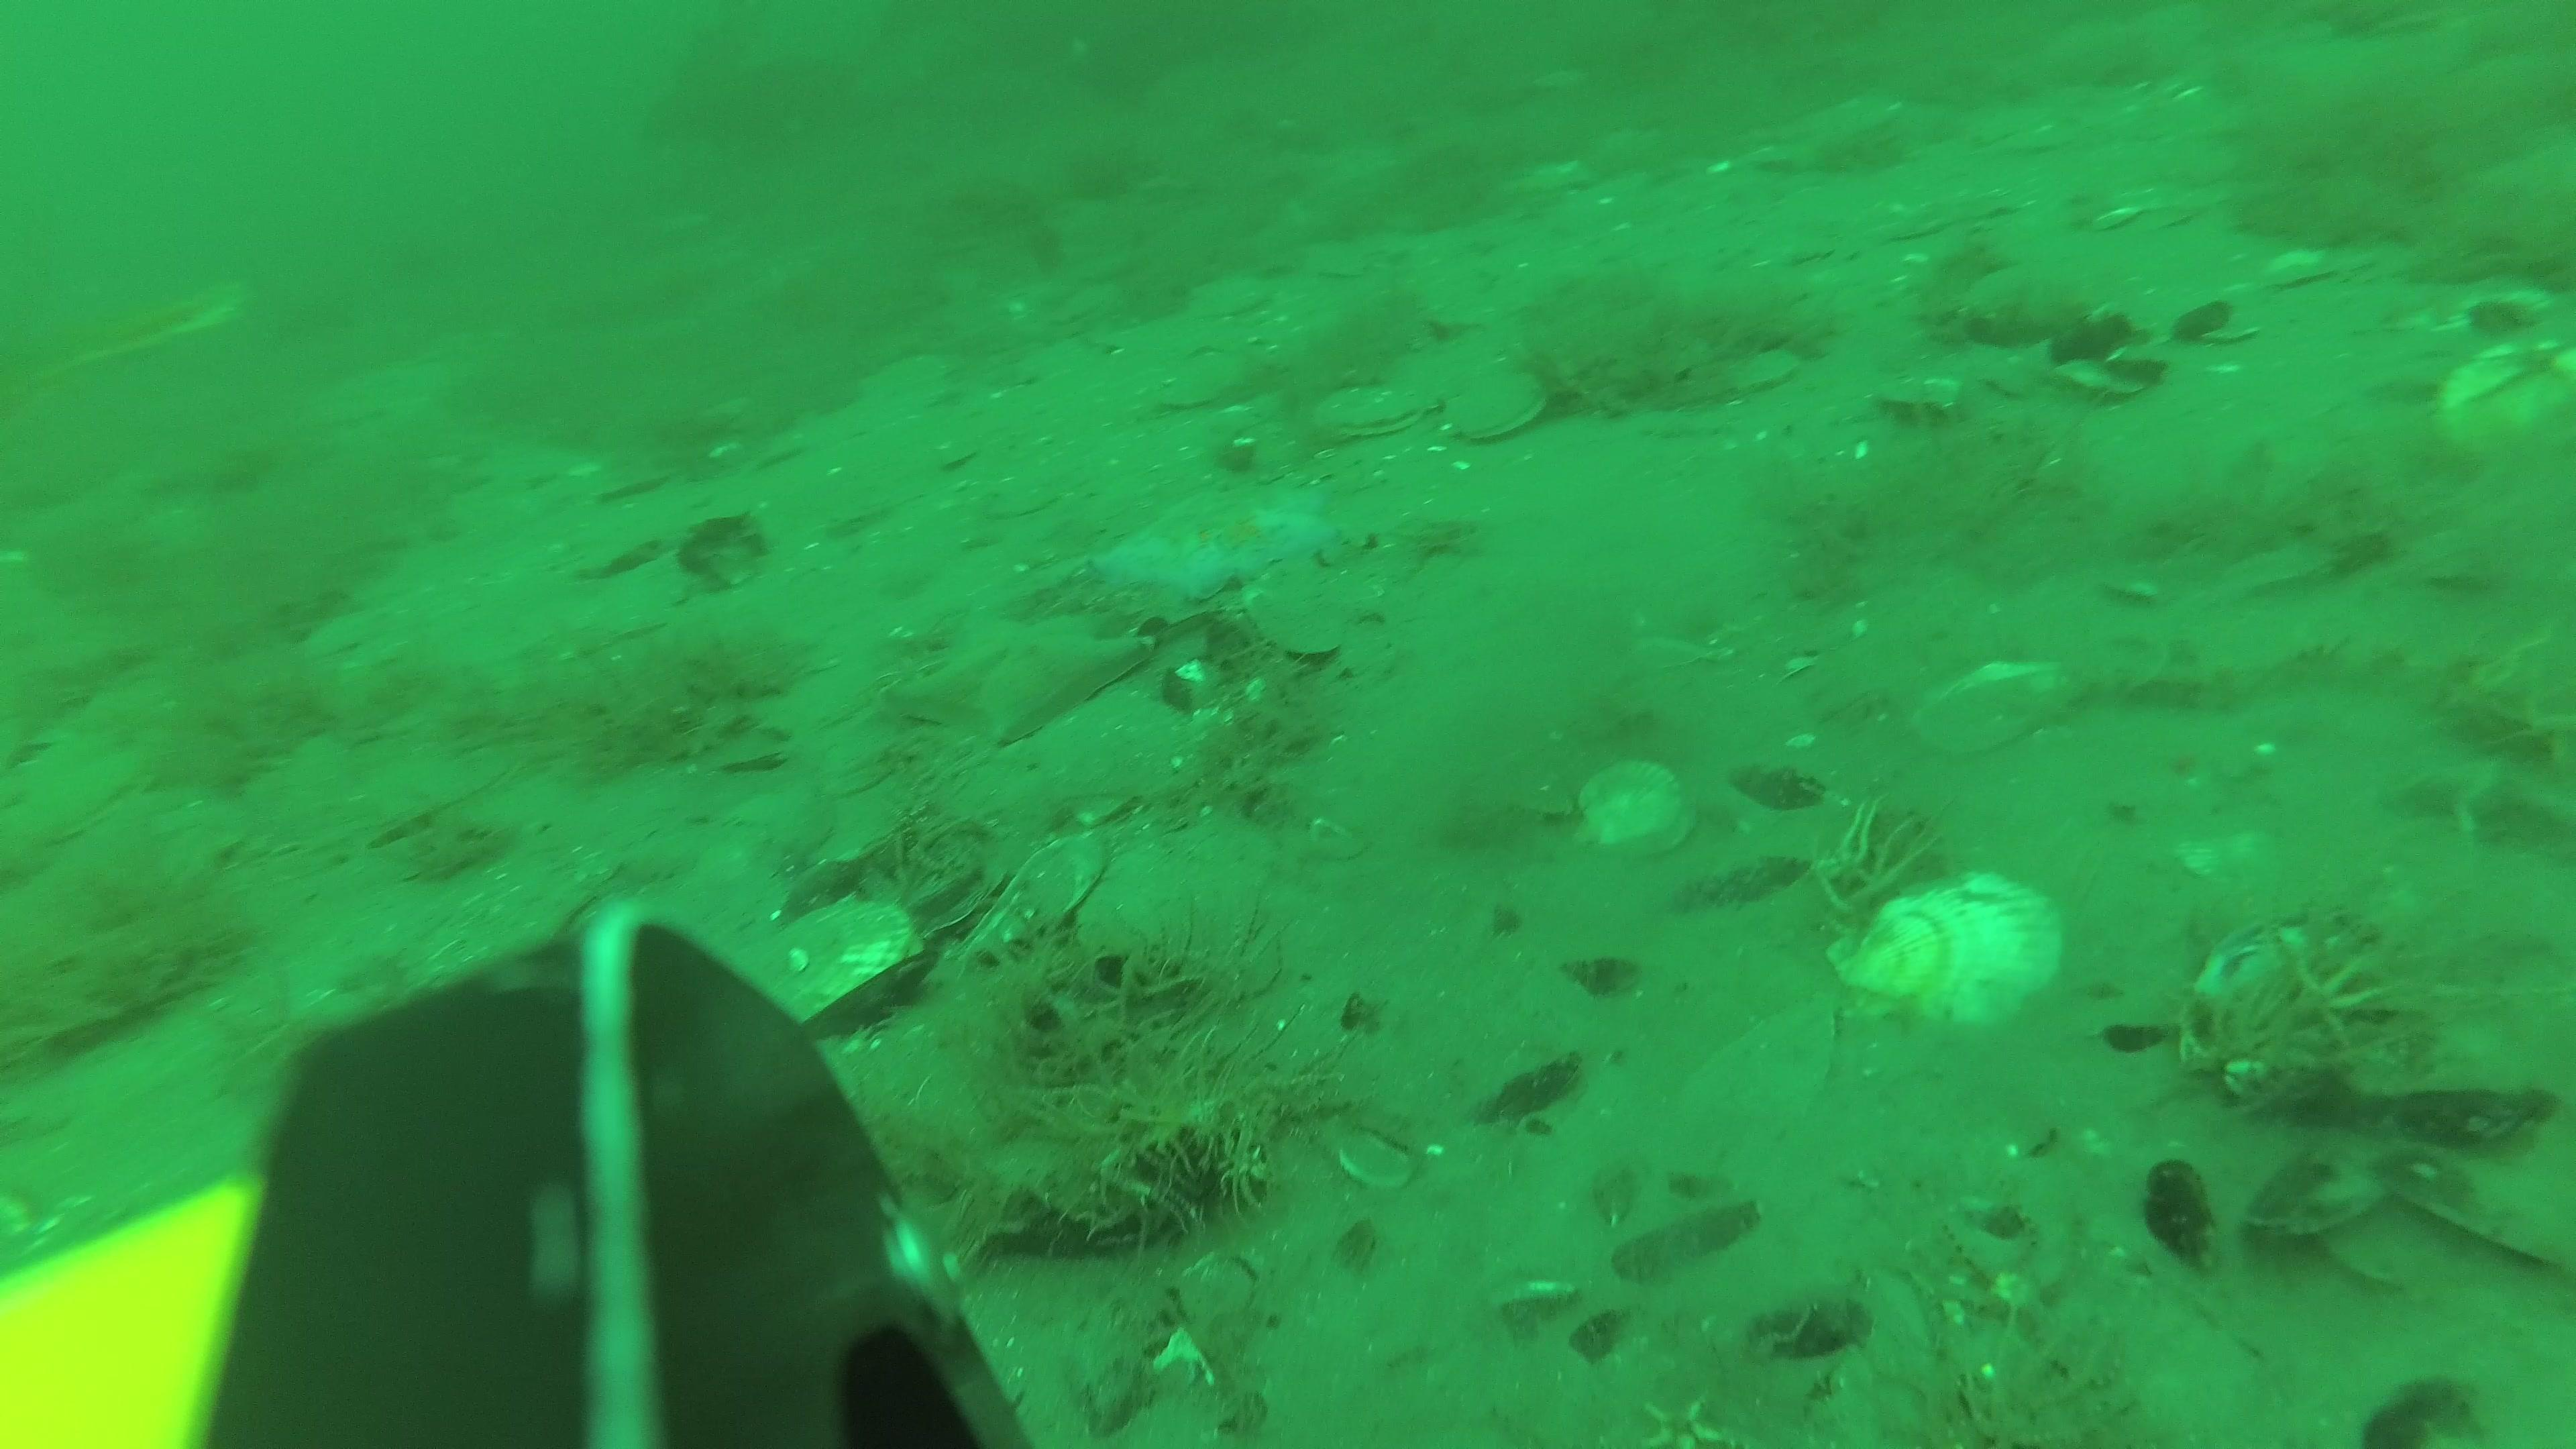scallop: (1838, 878, 2059, 1014), (741, 893, 929, 1019), (2443, 338, 2576, 458), (1918, 658, 2054, 759), (1573, 755, 1684, 853), (1449, 368, 1552, 448), (1318, 382, 1428, 437)
starfish: (901, 612, 1136, 755), (1093, 479, 1323, 589)
